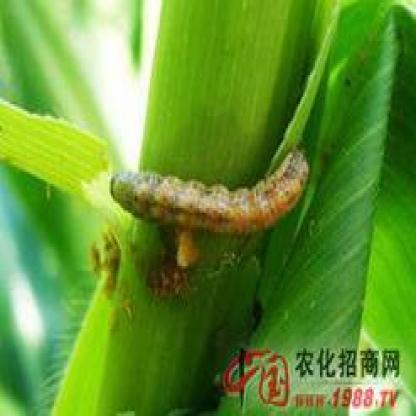armyworm: (109, 146, 310, 245)
